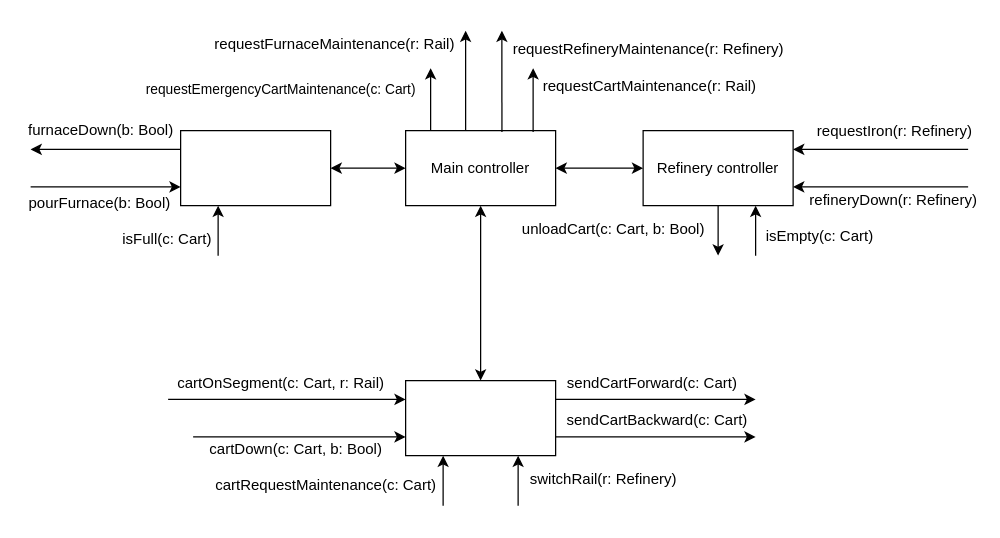
Image size: 1000x538. Some labels were removed from this diagram. Here are the shapes that lost their labels. From the top down, the centre of each, then its label:
At point (255, 167): "Blast furnace controller".
At point (480, 417): "Cart controller".
